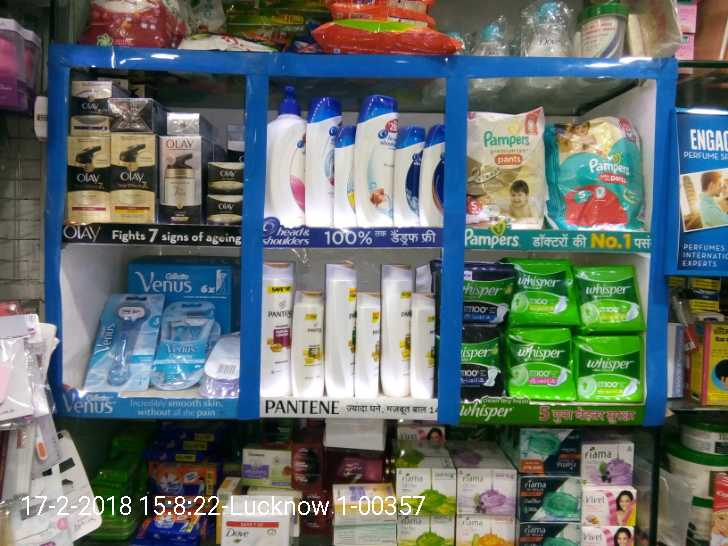venus: (92, 292, 154, 385), (159, 299, 205, 394), (205, 330, 241, 394)
